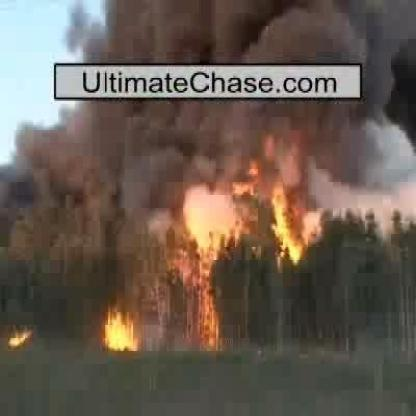-: (111, 6, 380, 58)
foggia-v2-map80-epoch100 - v1 4323: (102, 312, 134, 348)
